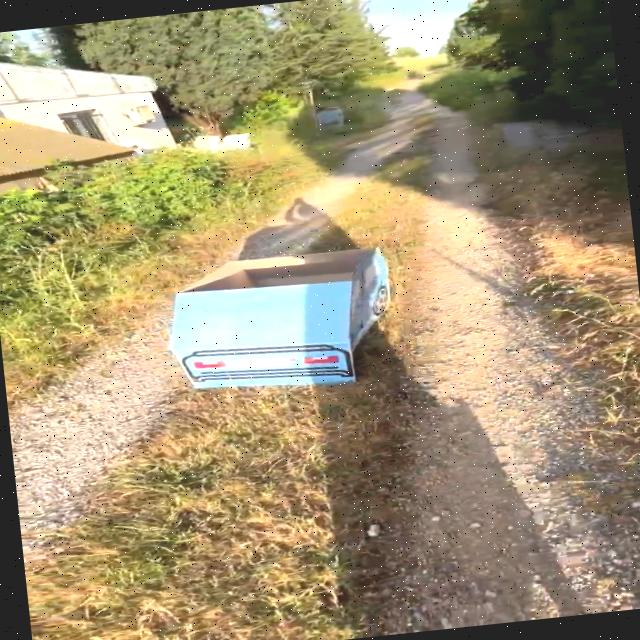blue_car: (104, 217, 455, 426)
